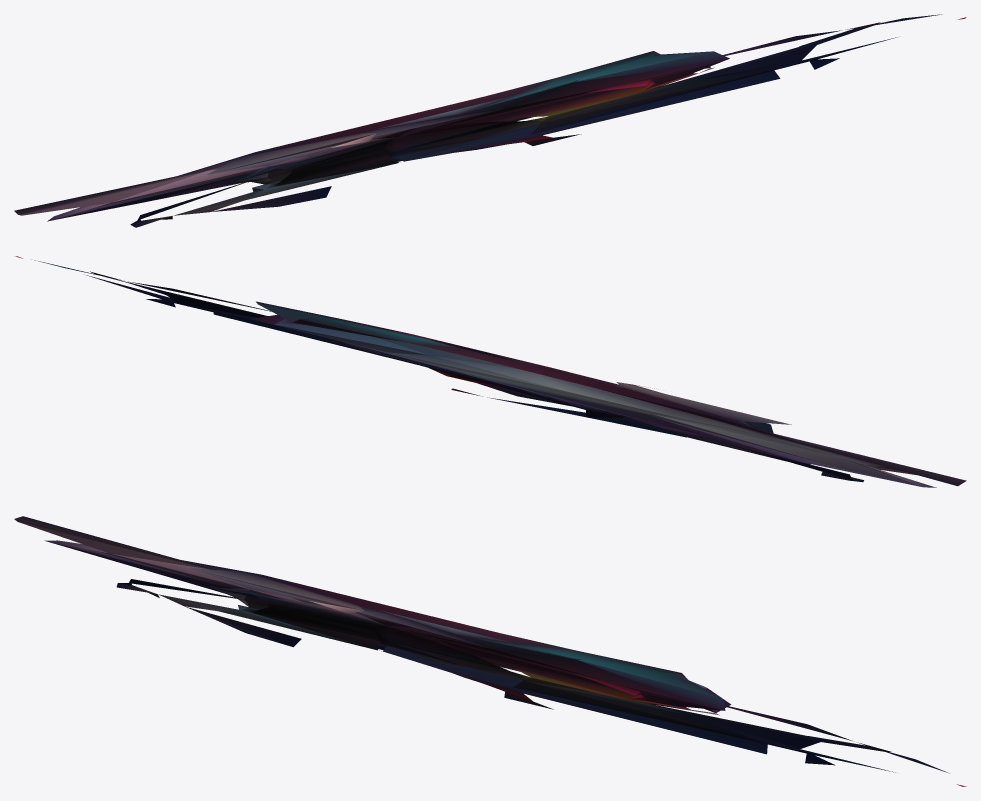
The picture shows the model from 3 angles, top to bottom: view 1: azimuth 30°, elevation 25°; view 2: azimuth 150°, elevation 25°; view 3: azimuth 330°, elevation 25°; orthographic projection. The views are drawn at different scales.
Size of the model in its own units: 6 by 0.2707 by 0.3.
